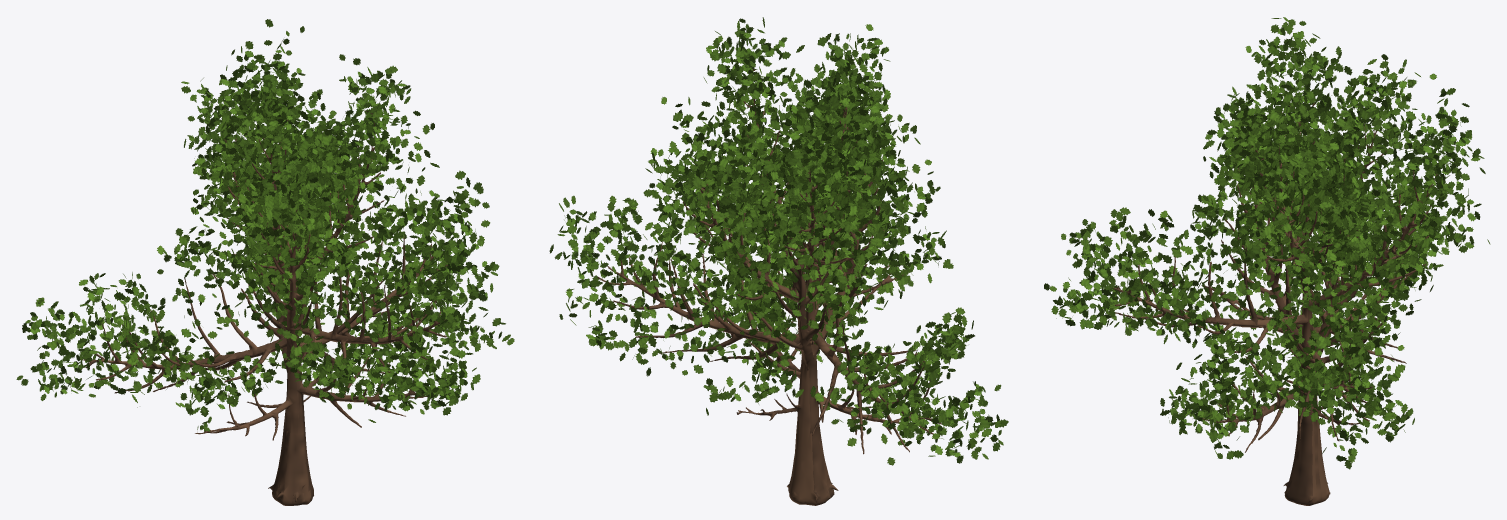
The model's file is oak_sapling_v009.glb.
The picture shows the model from 3 angles, left to right: view 1: azimuth 30°, elevation 25°; view 2: azimuth 150°, elevation 25°; view 3: azimuth 270°, elevation 25°; orthographic projection. The views are drawn at different scales.
Visible parts, largest first — view 1: Oak foliage cards, Oak_Sapling_Fused_Bark_V009; view 2: Oak foliage cards, Oak_Sapling_Fused_Bark_V009; view 3: Oak foliage cards, Oak_Sapling_Fused_Bark_V009.
Part boxes in pixels (x1,y1,x2,y2): Oak foliage cards: (16,19,514,431); Oak_Sapling_Fused_Bark_V009: (80,110,447,505); Oak foliage cards: (549,17,1008,465); Oak_Sapling_Fused_Bark_V009: (597,68,941,505); Oak foliage cards: (1044,17,1490,469); Oak_Sapling_Fused_Bark_V009: (1113,103,1437,505).
Size of the model in its own units: 13.87 by 13.23 by 11.72.
Materials: 2 (2 with a texture image).
